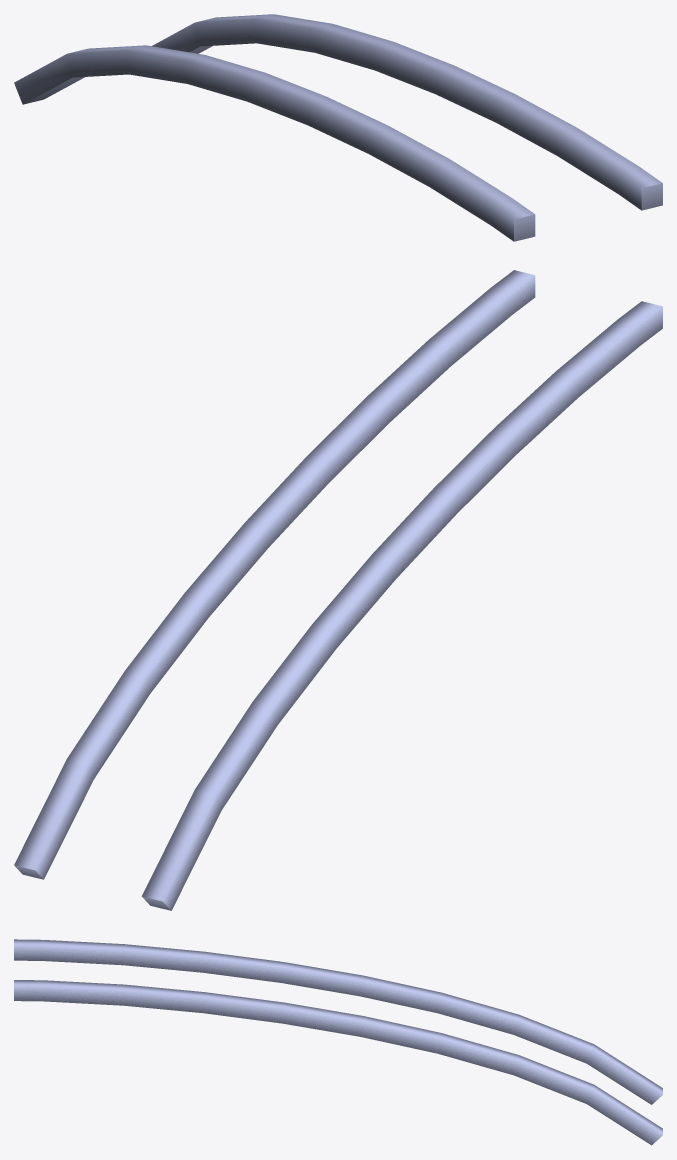
Rendered from railroad-rail-straight-hill-end.glb.
3 views of the same model, one above another, from view 1: azimuth 30°, elevation 25°; view 2: azimuth 150°, elevation 25°; view 3: azimuth 270°, elevation 25° (orthographic). The views are drawn at different scales.
Parts seen in each view (by area): view 1: railroad-rail-straight-hill-end; view 2: railroad-rail-straight-hill-end; view 3: railroad-rail-straight-hill-end.
Boxes of the visible parts, x1,y1,x2,y2 form: railroad-rail-straight-hill-end: [14, 14, 662, 241]; railroad-rail-straight-hill-end: [14, 270, 662, 910]; railroad-rail-straight-hill-end: [14, 939, 662, 1145].
Size of the model in its own units: 0.7 by 1.1 by 4.07.
1 material, 1 textured.
